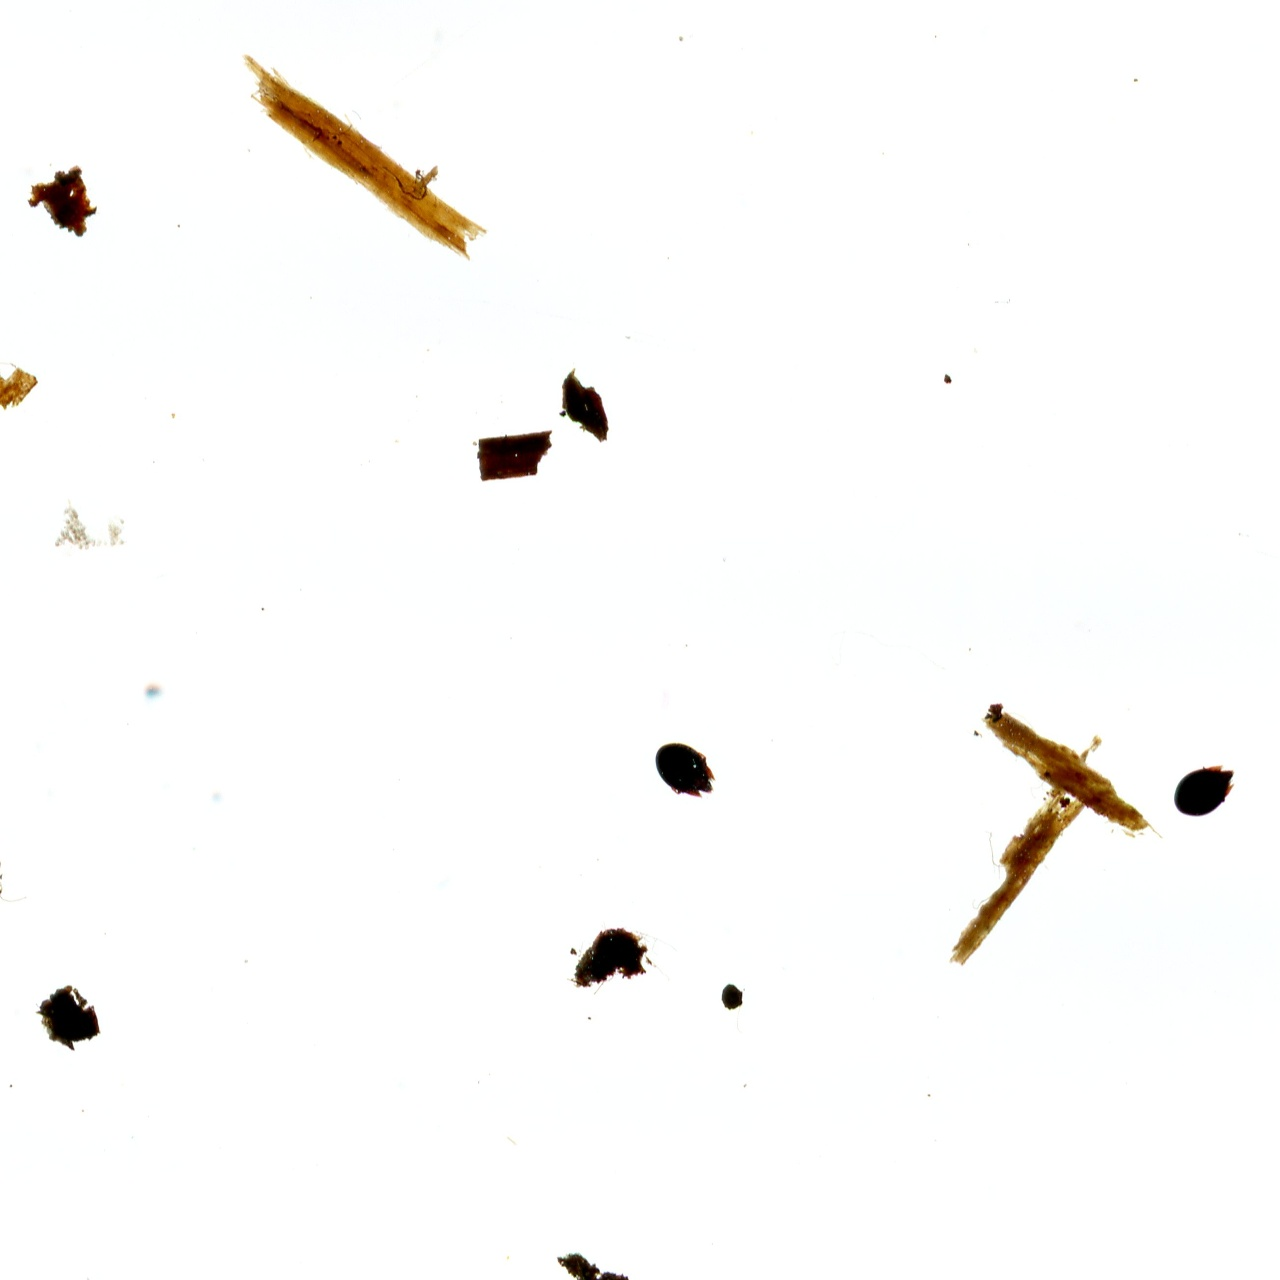arthropod: (652, 738, 719, 802), (1171, 762, 1239, 821)
